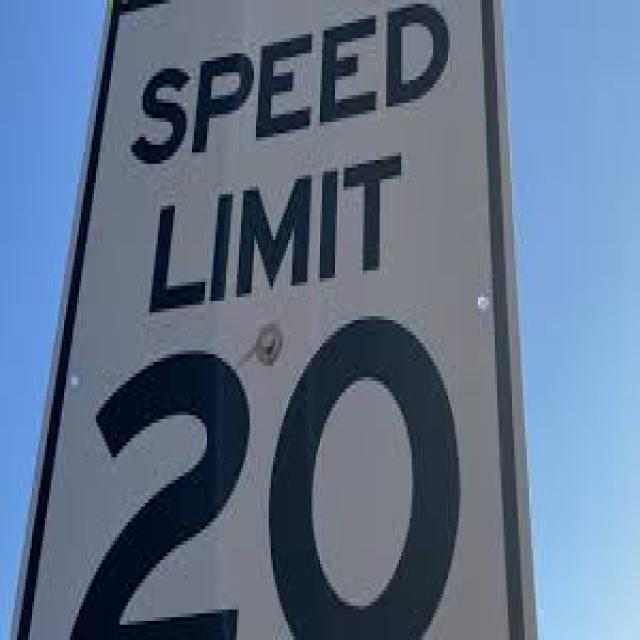speedLimit20: (13, 12, 540, 632)
